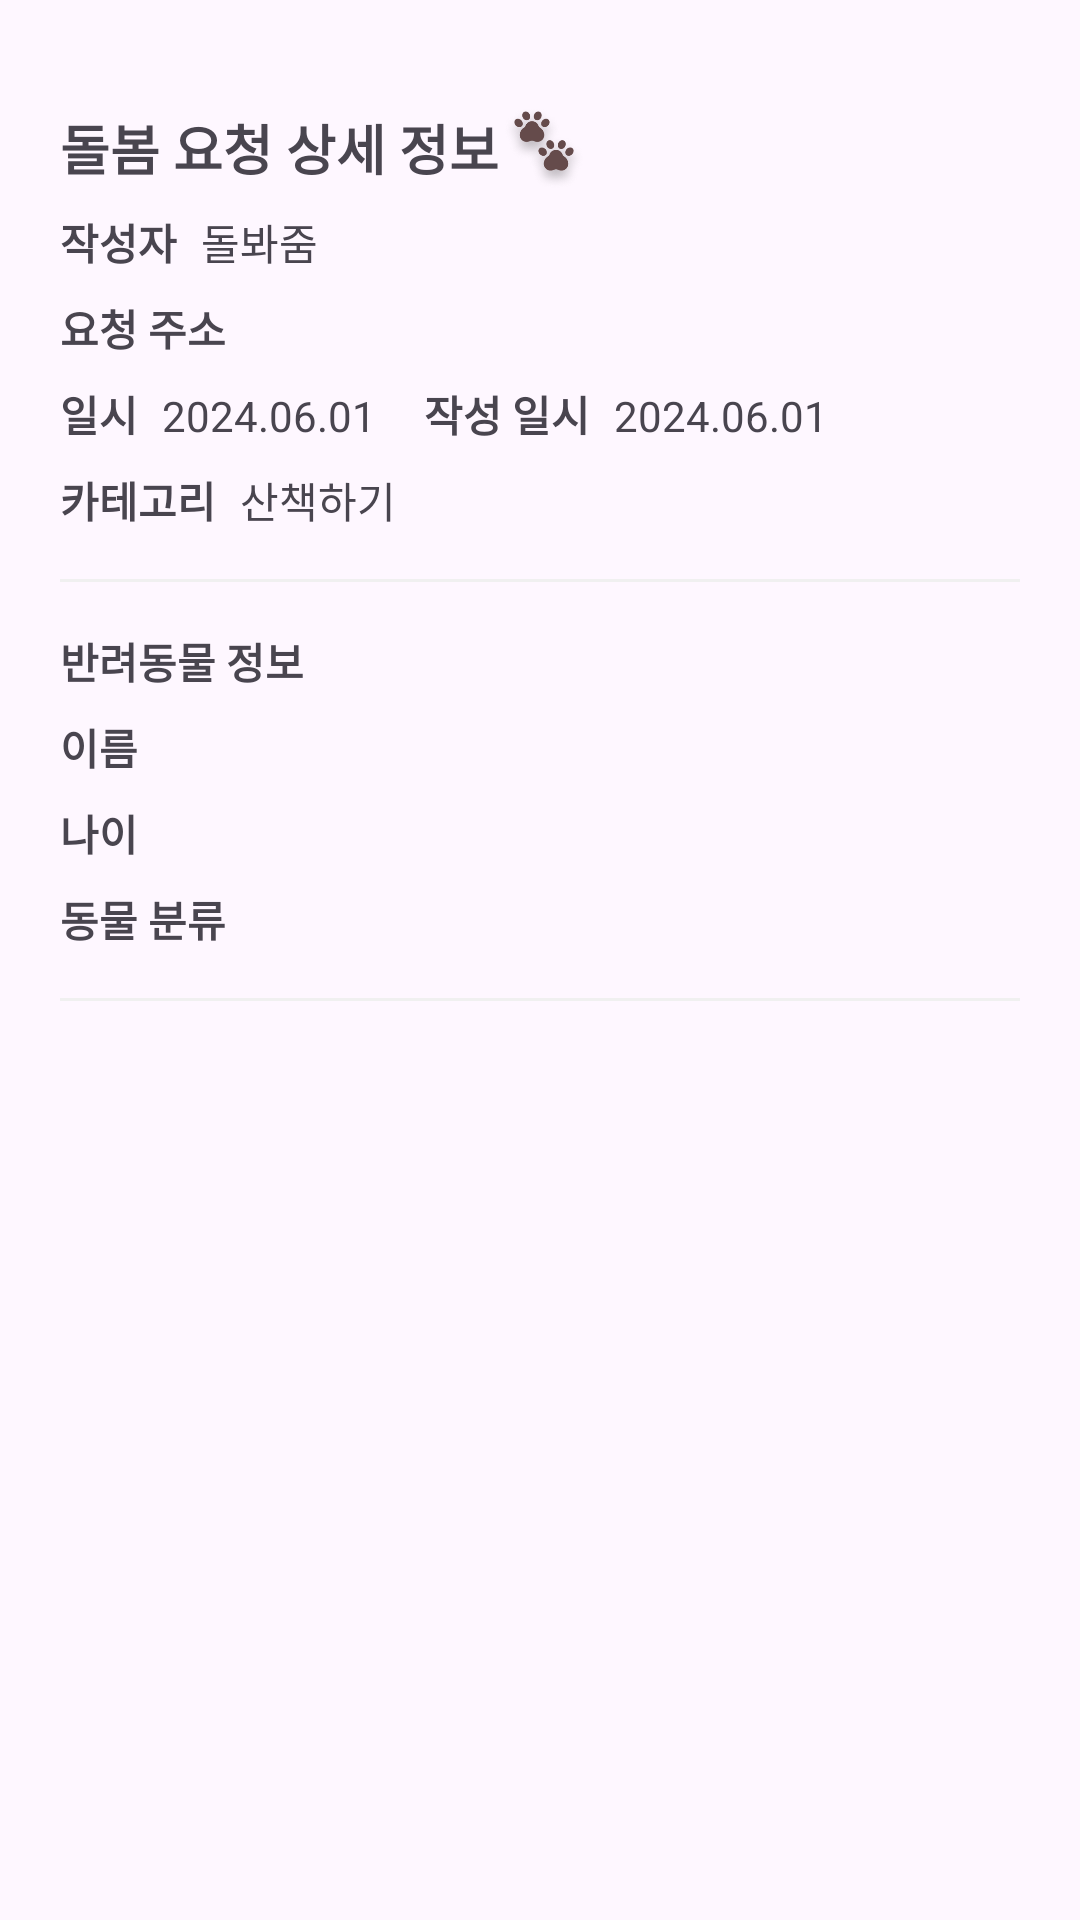

Named icons in this screenshot (1080x1920) and their centers, (x=x, y=y):
paws: (x=544, y=145)
